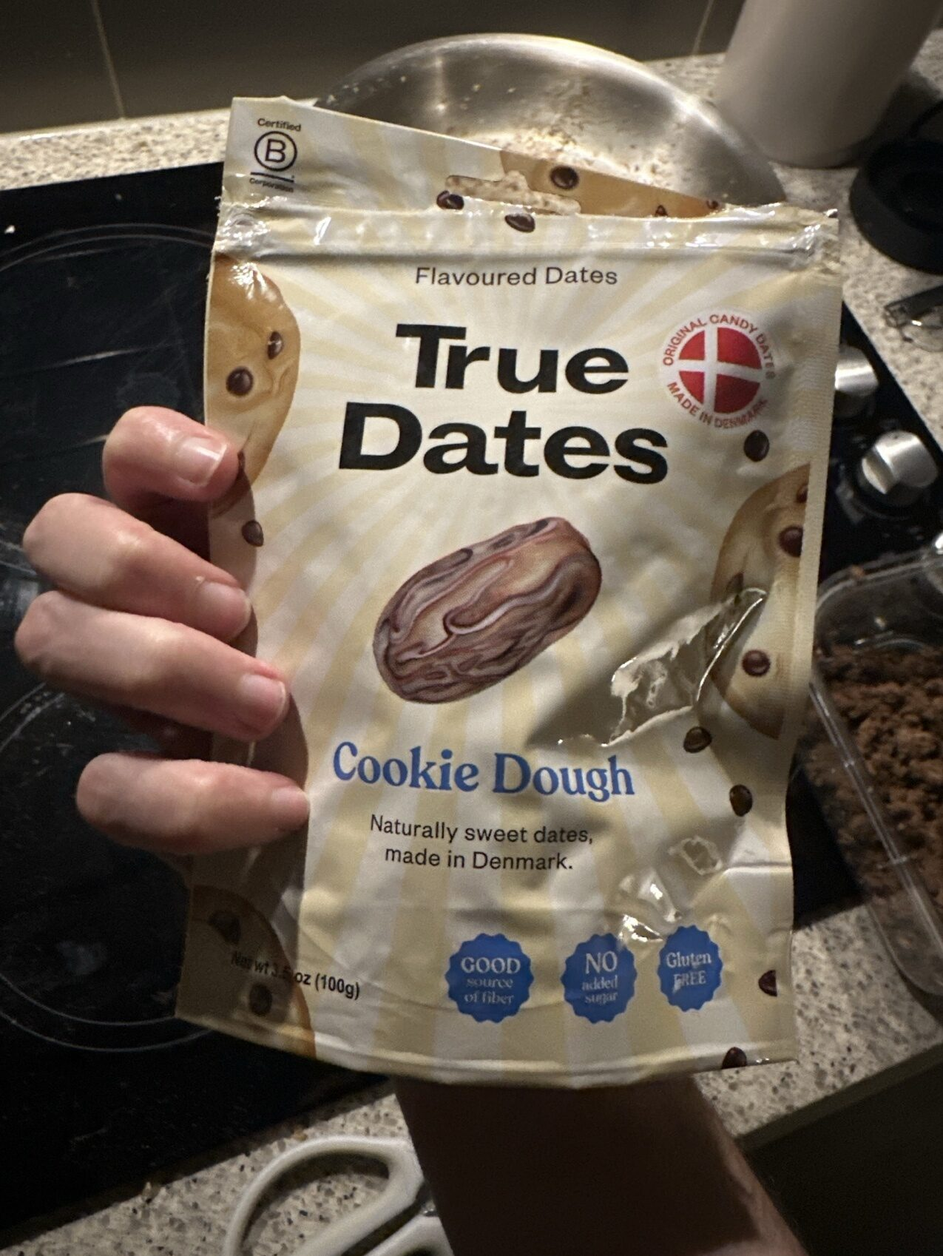Cookie Dough: (47, 63, 896, 1193)
